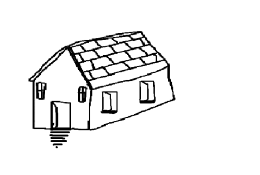closed_window: (137, 80, 158, 105), (100, 89, 120, 115), (72, 86, 87, 104), (36, 81, 47, 99)
door: (47, 99, 73, 132)
roof: (29, 31, 168, 91)
wall: (29, 43, 95, 131)
